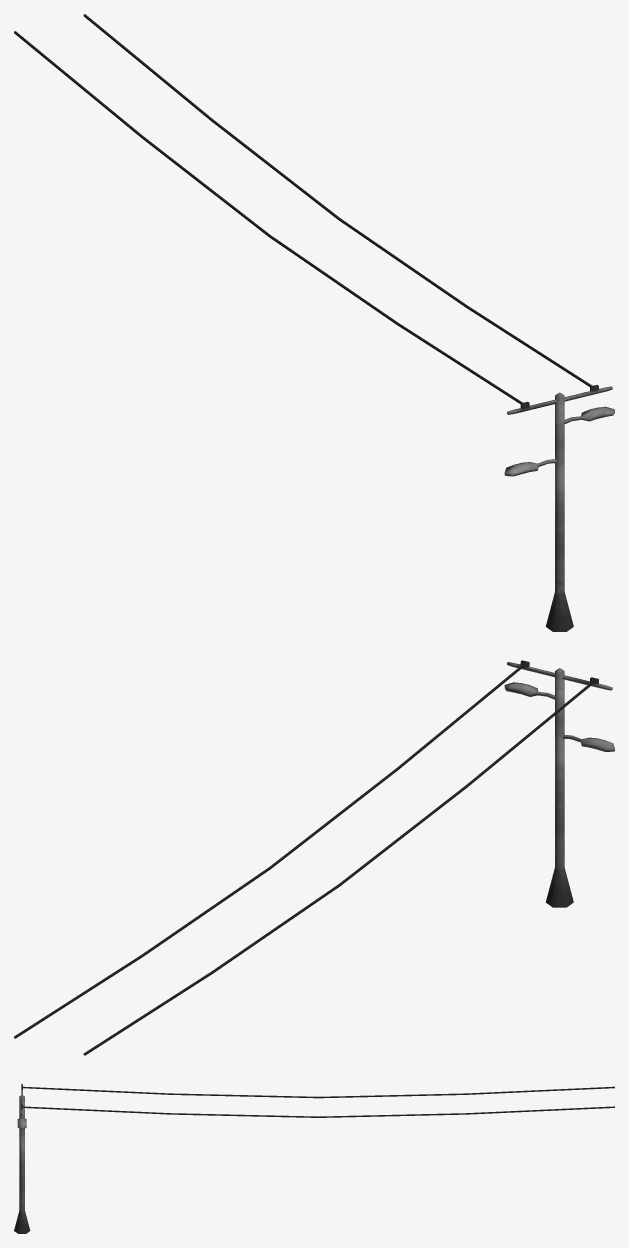
File: Outside Light1.fbx
The picture shows the model from 3 angles, top to bottom: view 1: azimuth 30°, elevation 25°; view 2: azimuth 150°, elevation 25°; view 3: azimuth 270°, elevation 25°; orthographic projection. The views are drawn at different scales.
Visible parts, largest first — view 1: Outside Light1, LightLines1.001, LightLines1; view 2: Outside Light1, LightLines1, LightLines1.001; view 3: LightLines1.001, LightLines1, Outside Light1.
Boxes of the visible parts, <box> form: Outside Light1: <box>504,385,614,631</box>; LightLines1.001: <box>14,31,522,403</box>; LightLines1: <box>83,14,592,386</box>; Outside Light1: <box>504,660,614,907</box>; LightLines1: <box>14,663,525,1038</box>; LightLines1.001: <box>83,680,594,1055</box>; LightLines1.001: <box>23,1086,614,1098</box>; LightLines1: <box>23,1106,614,1117</box>; Outside Light1: <box>14,1084,30,1233</box>.
Bounding box in the file's own units: 4.96 × 10.14 × 40.55.
Materials: 1 (1 with a texture image).
